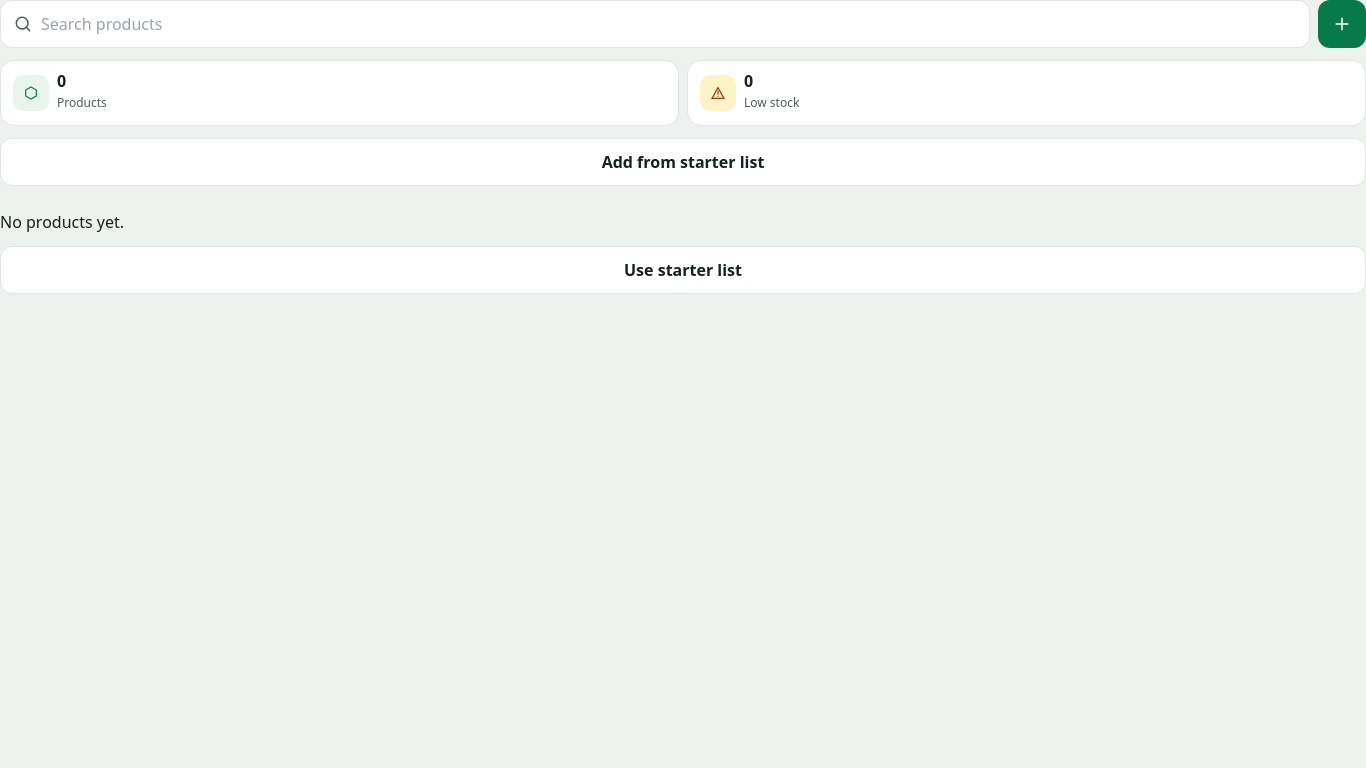
Test: items screen › applies the starter list and reports created and skipped
The width and height of the screenshot is (1366, 768).
Click the button "Use starter list" at (683, 270), box [0,246,1365,294]
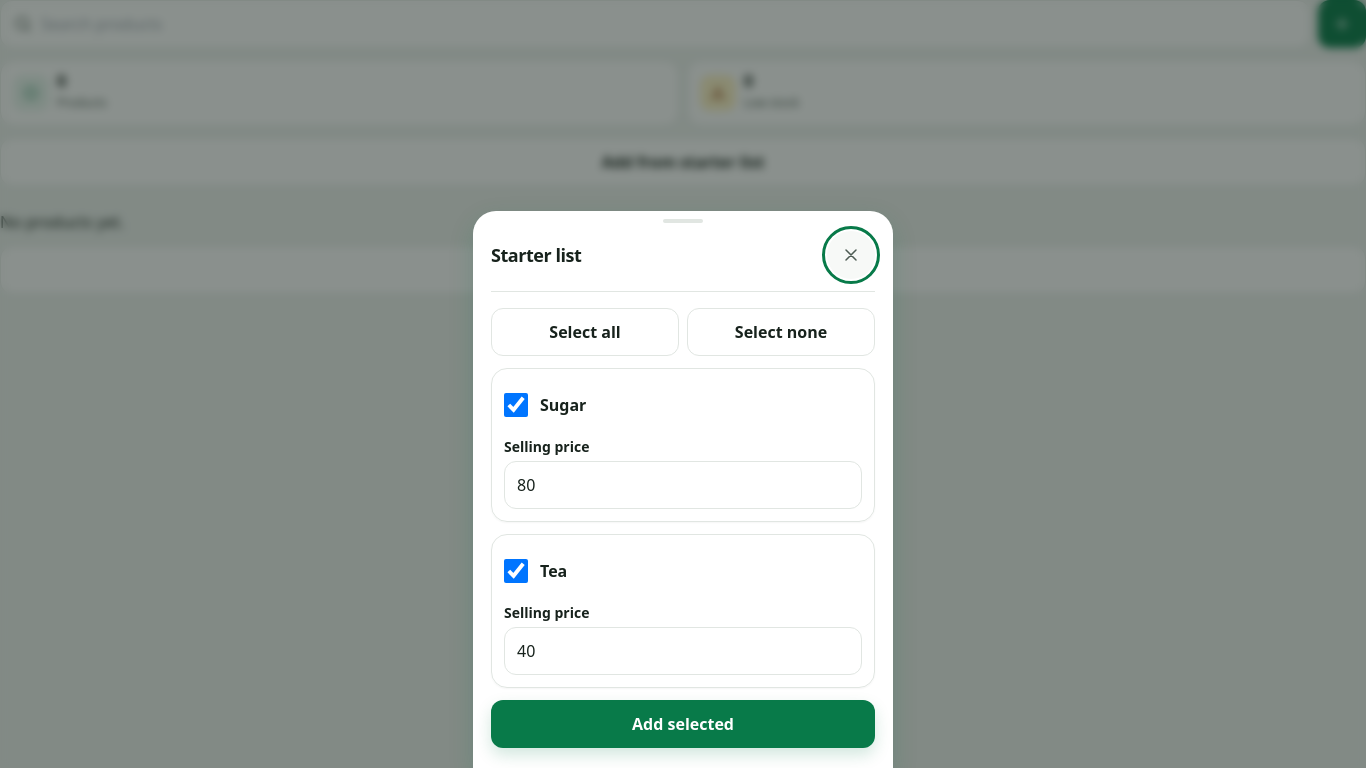
Now the checkbox labelled "Sugar" is checked, box [504,393,528,417]
Click the button "Add selected" at (683, 724), box [491,700,875,748]
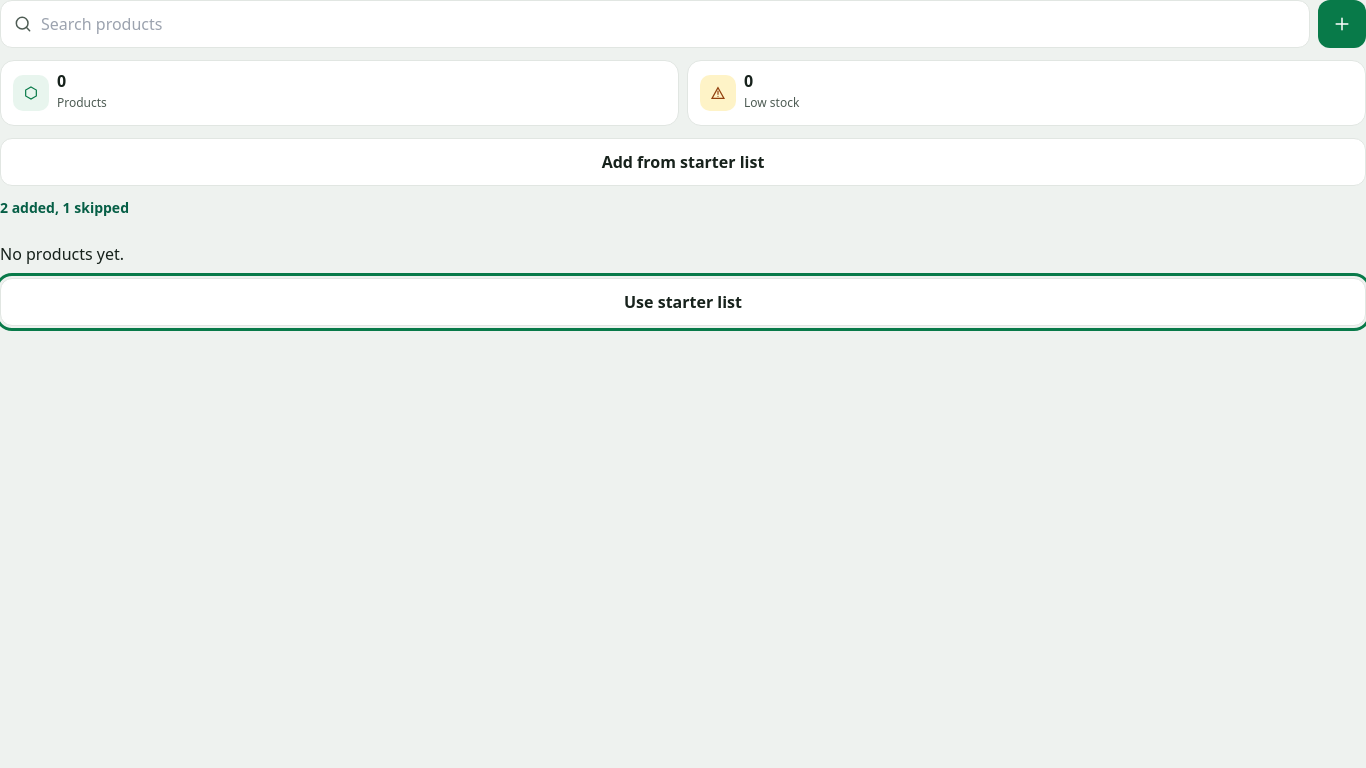
Now the text "2 added, 1 skipped" is shown, box [0,198,129,217]
